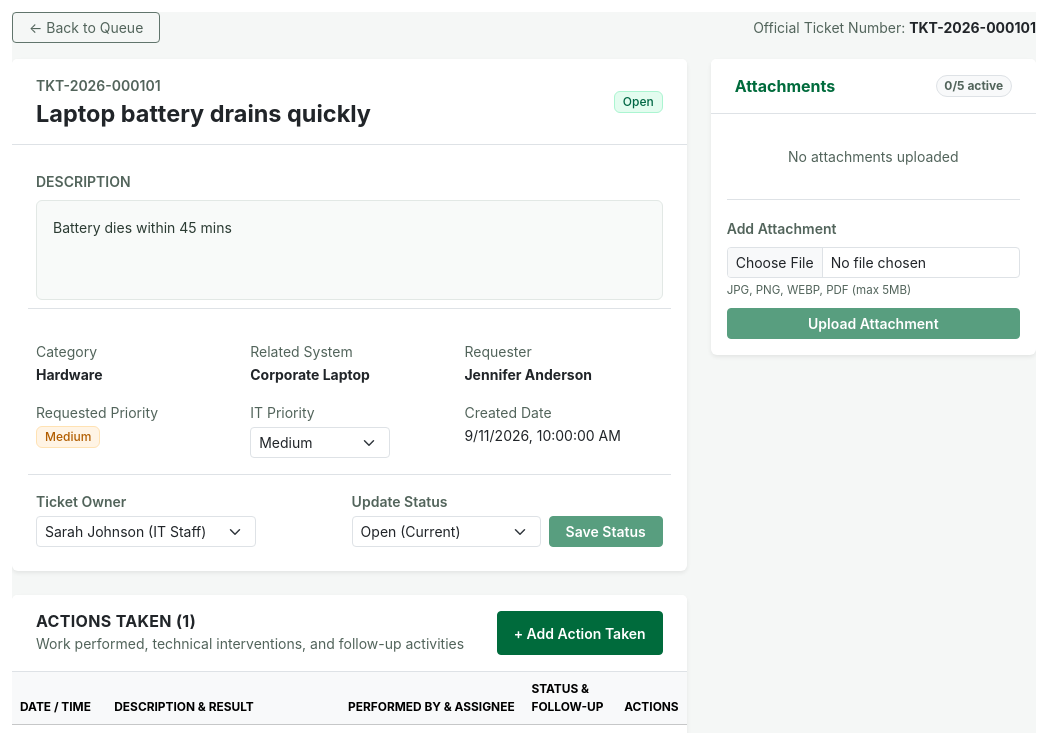
Scenario: Lab 4 / UI-08: Ticket Workflow, Resolution Gate & Concurrency Control › displays concurrency conflict banner and reloads fresh data when server returns 409 Conflict
The width and height of the screenshot is (1048, 733).
// Advance status to In Progress
Select "In Progress" in the dropdown named "ticket status" at (446, 532), box [352,516,541,547]
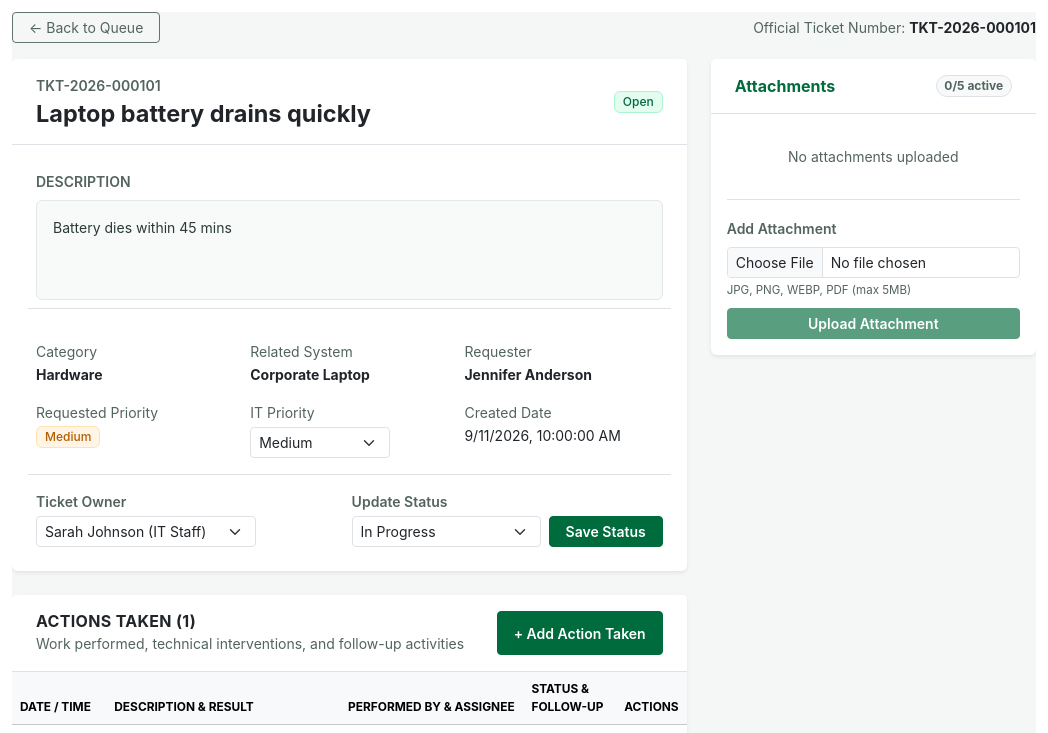
Click the button "Save Status".
click(606, 532)  # box [549,516,663,547]
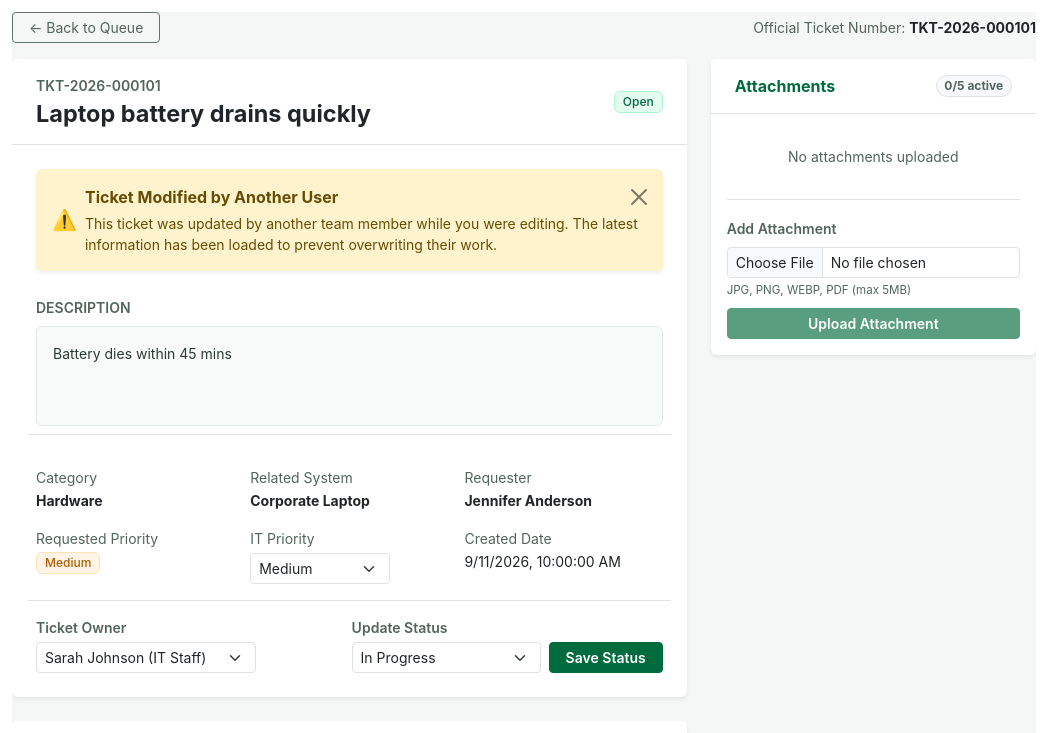
Now the message with test id "concurrency-conflict-banner" is shown, box [36,169,663,271]
Now the text "Ticket Modified by Another User" is shown, box [85,187,338,207]
Now the text "This ticket was updated by another team member while you were editing" is shown, box [85,215,638,253]
